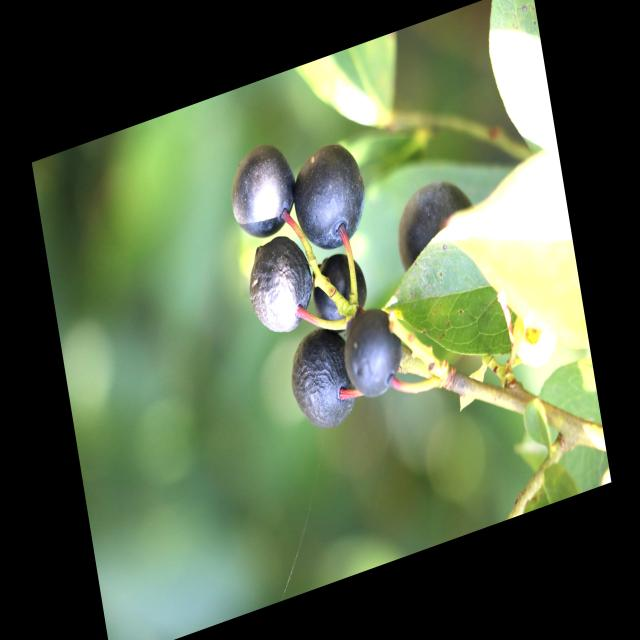blueberry: (386, 168, 486, 288), (286, 132, 376, 264), (237, 221, 325, 350), (282, 316, 366, 445), (220, 134, 306, 252), (333, 290, 416, 412), (302, 240, 376, 344)
blueberry-unripe: (509, 304, 559, 374)
